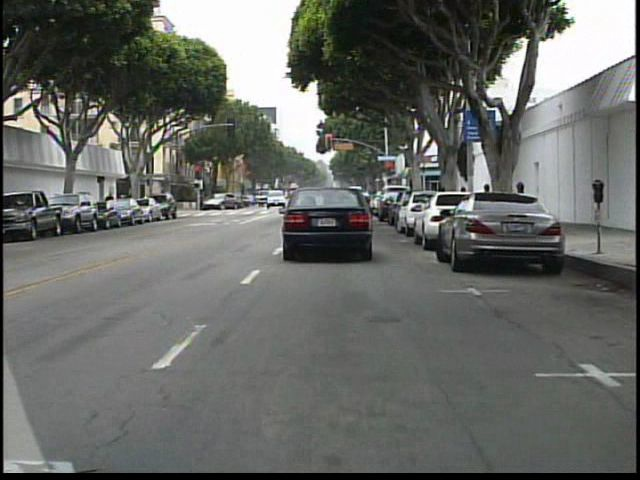person: (104, 189, 119, 221), (195, 189, 211, 213)
